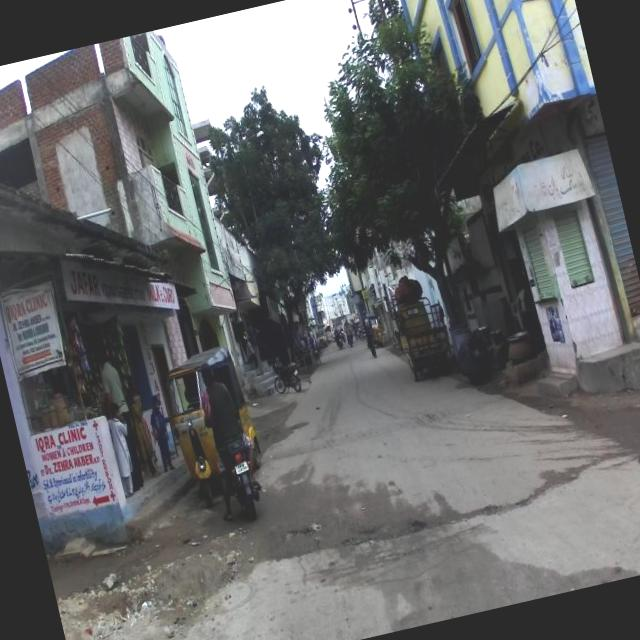pothole: (204, 469, 436, 604), (417, 426, 607, 566), (75, 528, 222, 640)
